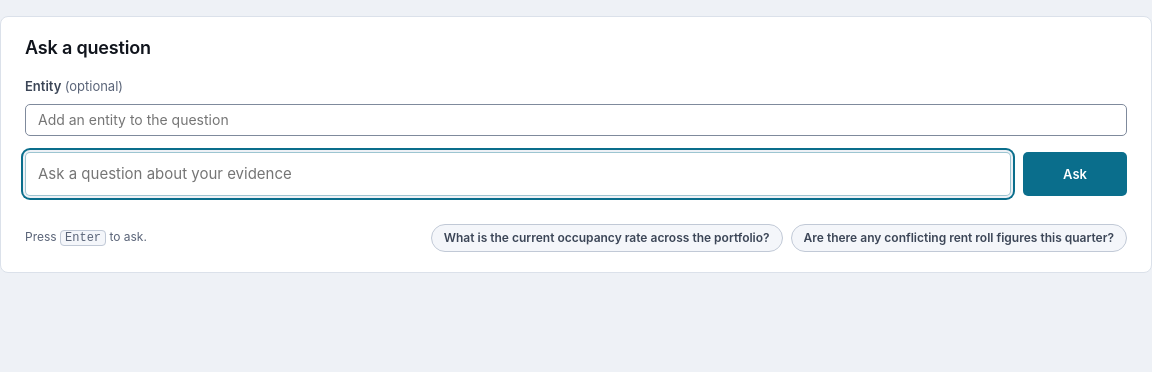
AnswerComposer › deletes the error toast for a failed submit — the page alert is the only report
The image size is (1152, 372).
Type "Q" into the field labelled "question".
click(518, 174); type("Q")  # box [25, 152, 1011, 196]
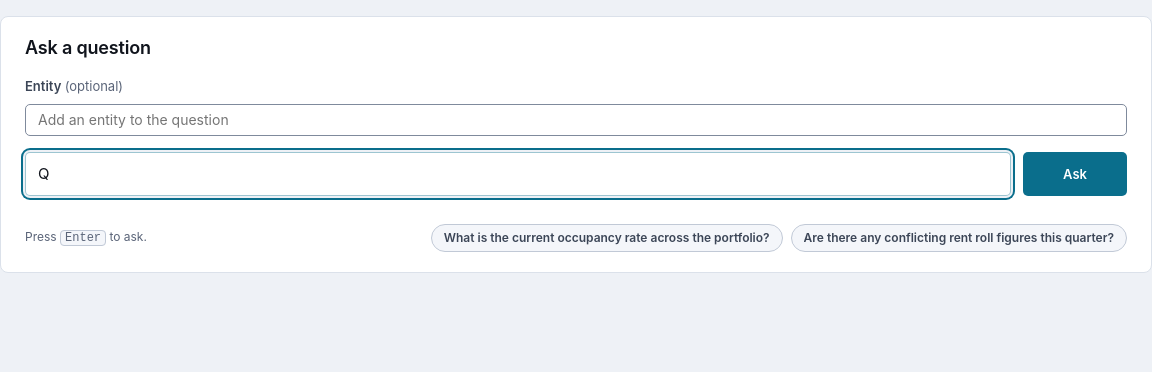
Click the button "Ask".
click(1075, 174)  # box [1023, 152, 1127, 196]
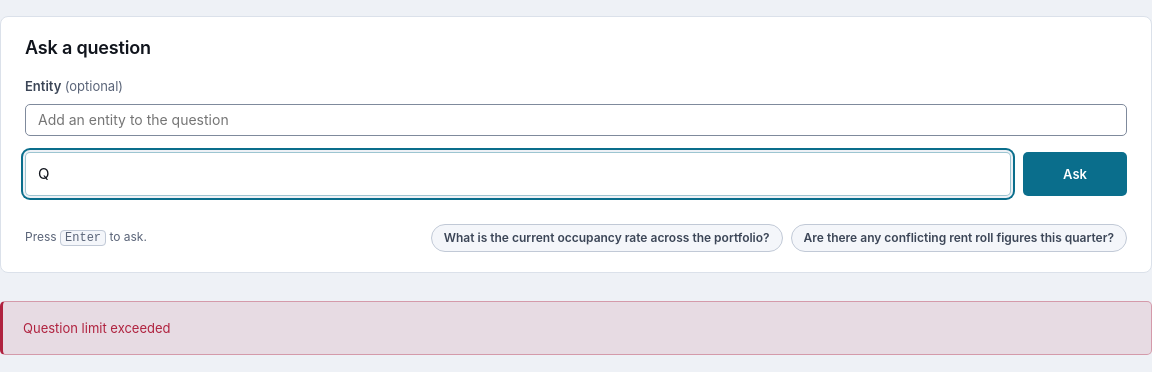
Expected: the text "Question limit exceeded" is shown, [23, 320, 170, 336]
Expected: the number of messages is 1, [0, 301, 1151, 355]
